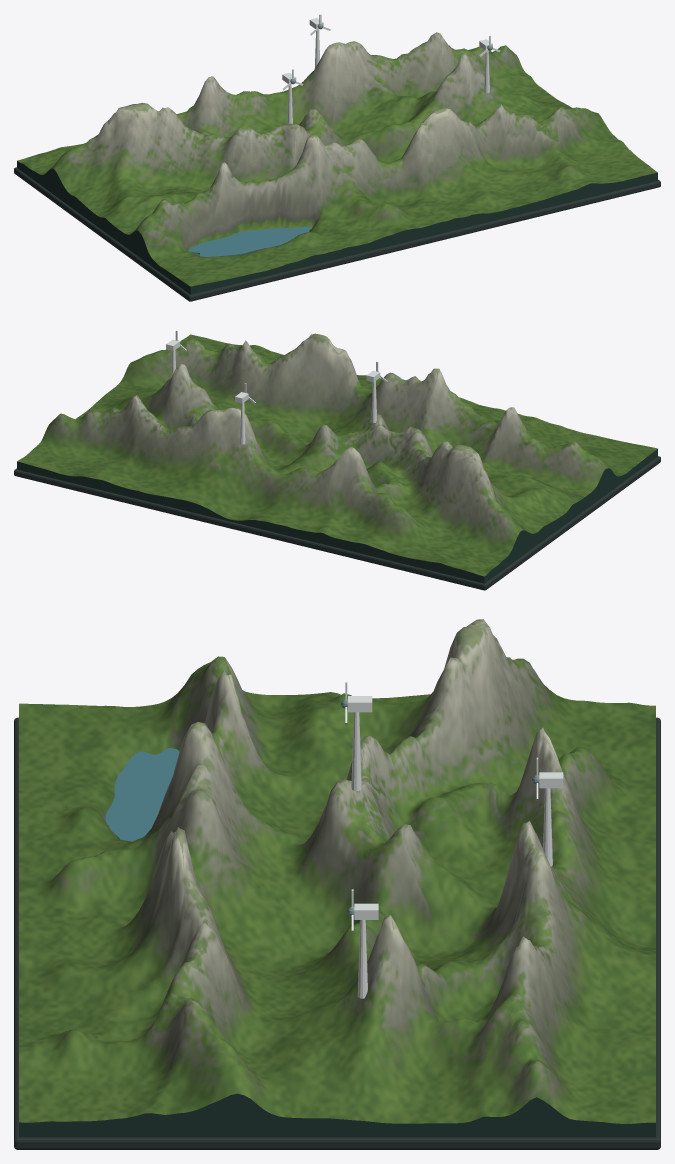
The model's file is B_windfarm_terrain_low_raw.glb.
The picture shows the model from 3 angles, top to bottom: view 1: azimuth 30°, elevation 25°; view 2: azimuth 150°, elevation 25°; view 3: azimuth 270°, elevation 25°; orthographic projection. The views are drawn at different scales.
Parts seen in each view (by area): view 1: PART__TERRAIN, PART__BASE, PART__LAKE; view 2: PART__TERRAIN, PART__BASE; view 3: PART__TERRAIN, PART__BASE, PART__LAKE.
Part boxes in pixels (x1=…): PART__TERRAIN: x1=17, y1=32, x2=657, y2=294; PART__BASE: x1=14, y1=167, x2=660, y2=301; PART__LAKE: x1=188, y1=226, x2=312, y2=256; PART__TERRAIN: x1=17, y1=333, x2=657, y2=583; PART__BASE: x1=14, y1=456, x2=660, y2=590; PART__TERRAIN: x1=19, y1=619, x2=655, y2=1137; PART__BASE: x1=14, y1=717, x2=660, y2=1149; PART__LAKE: x1=105, y1=748, x2=179, y2=841.
Size of the model in its own units: 14.14 by 3.42 by 9.14.
Materials: 6 (1 with a texture image).
